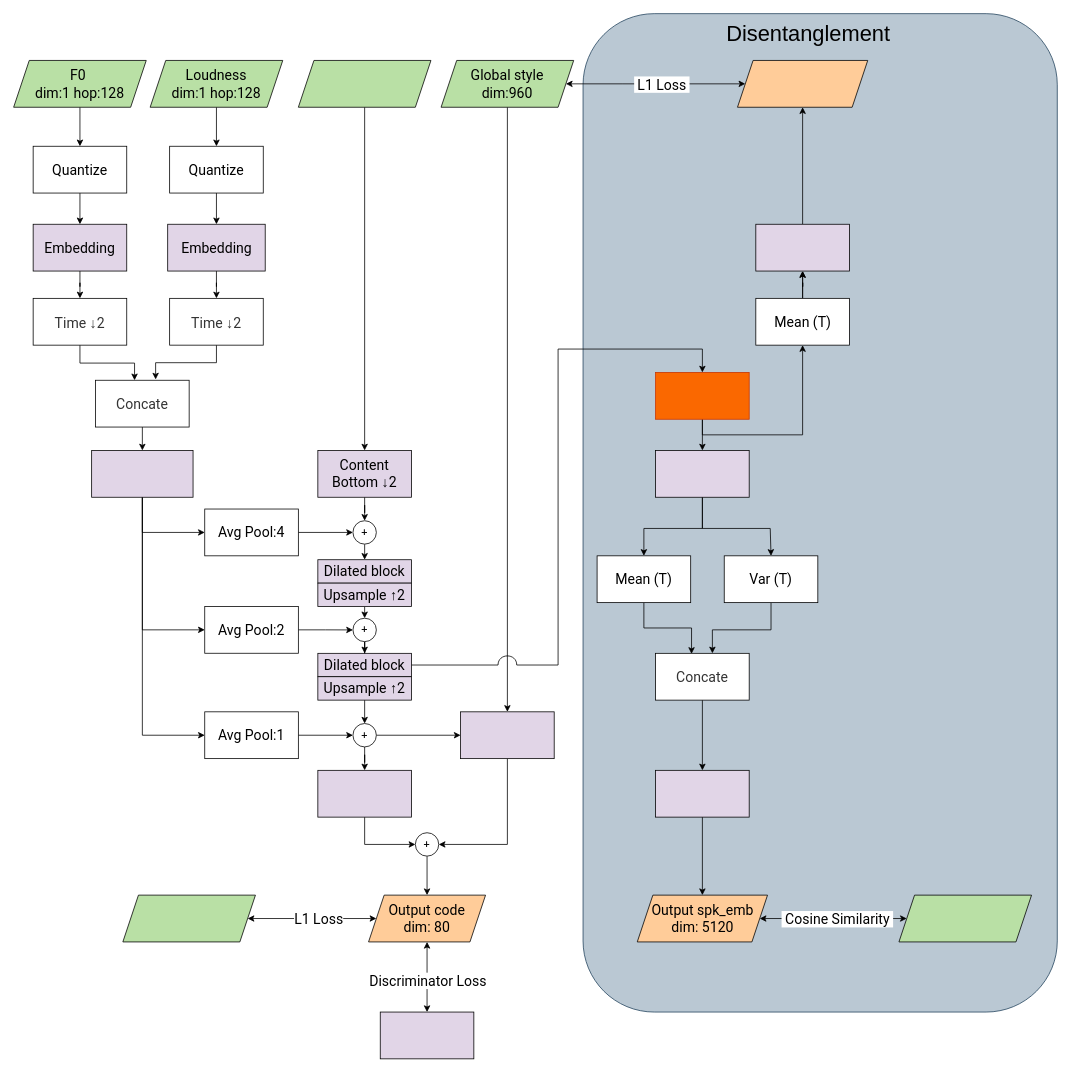
This 1071x1073 diagram has some shape labels left out. Here are the shapes that lost their labels. From the top down, the box of each, then its label:
(298, 60, 431, 107): Frame content dim:128 hop:512
(737, 60, 868, 107): Output style dim: 960
(755, 223, 849, 271): Style Top
(655, 372, 749, 419): Reverse Gradient
(91, 450, 193, 497): F0 & Loudness Bottom
(655, 450, 749, 497): Speaker Bottom
(460, 711, 554, 759): Style Botton ↑2
(317, 770, 411, 817): Top ↑2
(655, 770, 749, 817): Speaker Top
(122, 894, 255, 942): Input code dime:80
(898, 894, 1032, 942): Input spk_emb dim: 5120
(379, 1011, 474, 1059): Discriminators
